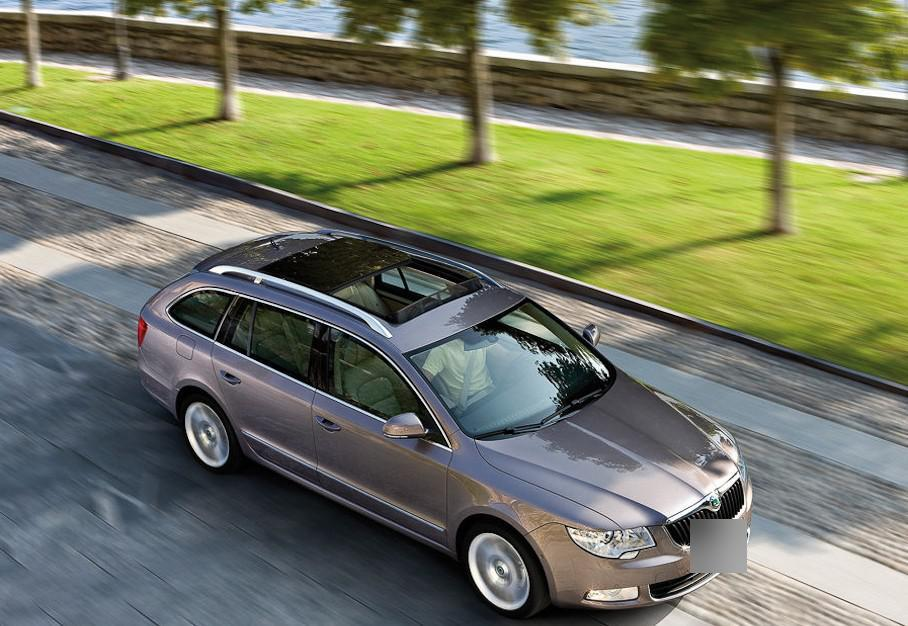Wagon: (138, 230, 753, 619)
